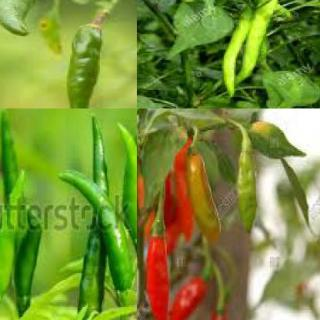green_chilli: (55, 166, 136, 290), (77, 115, 109, 314), (234, 0, 285, 85), (63, 30, 111, 108), (0, 172, 28, 298), (222, 4, 251, 97), (13, 227, 44, 314), (115, 122, 136, 248), (233, 146, 259, 235), (0, 0, 46, 35), (0, 109, 17, 202)
